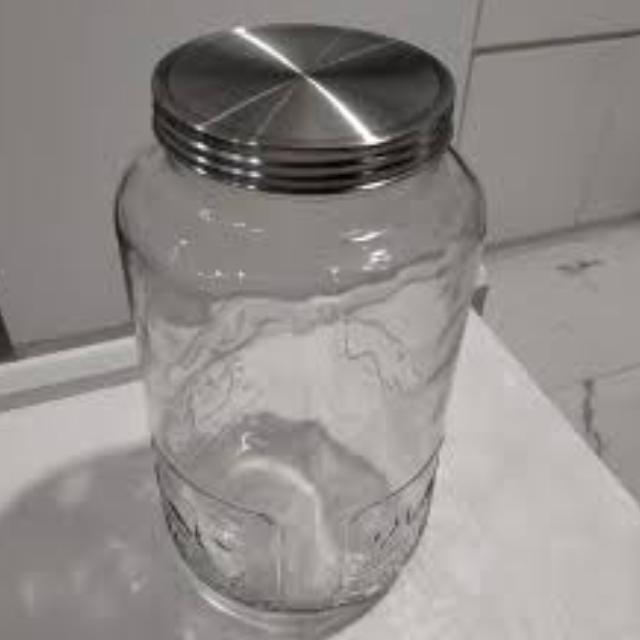ToplesKaca: (110, 19, 490, 636)
